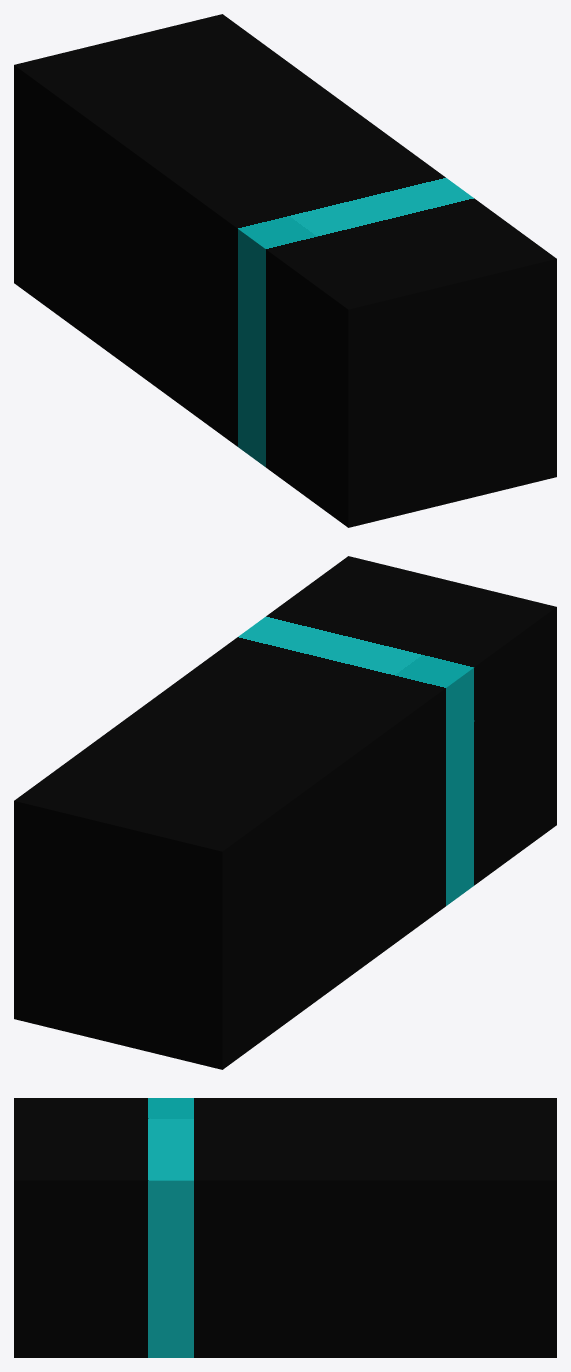
Rendered from left_controller.glb.
The picture shows the model from 3 angles, top to bottom: view 1: azimuth 30°, elevation 25°; view 2: azimuth 150°, elevation 25°; view 3: azimuth 270°, elevation 25°; orthographic projection. The views are drawn at different scales.
Visible parts, largest first — view 1: Outer; view 2: Outer; view 3: Outer.
Part boxes in pixels (x1,y1,x2,y2): Outer: [14, 14, 556, 527]; Outer: [14, 556, 556, 1069]; Outer: [14, 1098, 556, 1357].
Bounding box in the file's own units: 0.1406 × 0.1406 × 0.3906.
2 materials, 2 textured.
